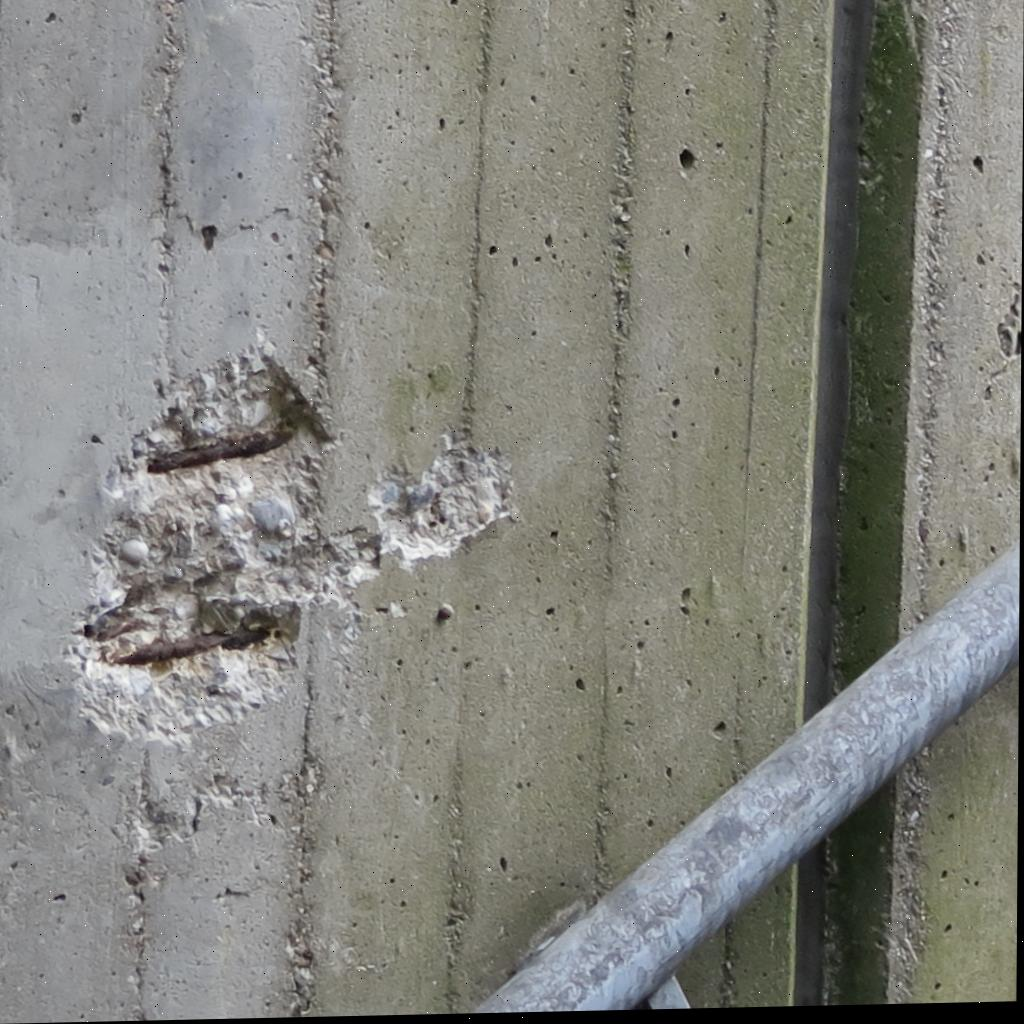spalling: (77, 346, 512, 744), (148, 430, 295, 472), (113, 631, 269, 665)
